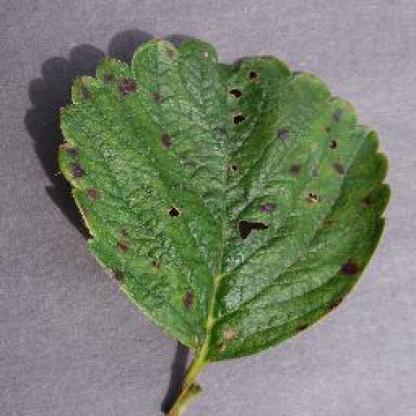leaf scorch: (36, 20, 401, 402)
